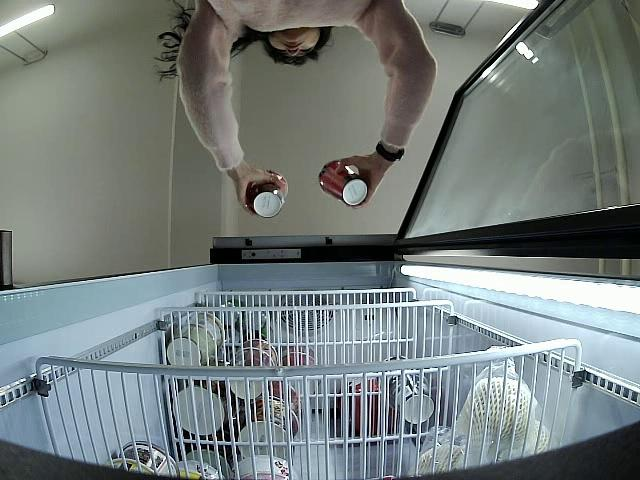00_hand: (333, 153, 385, 210), (235, 162, 286, 216)
02_shinRamen_S: (318, 159, 369, 208), (247, 171, 289, 218)
